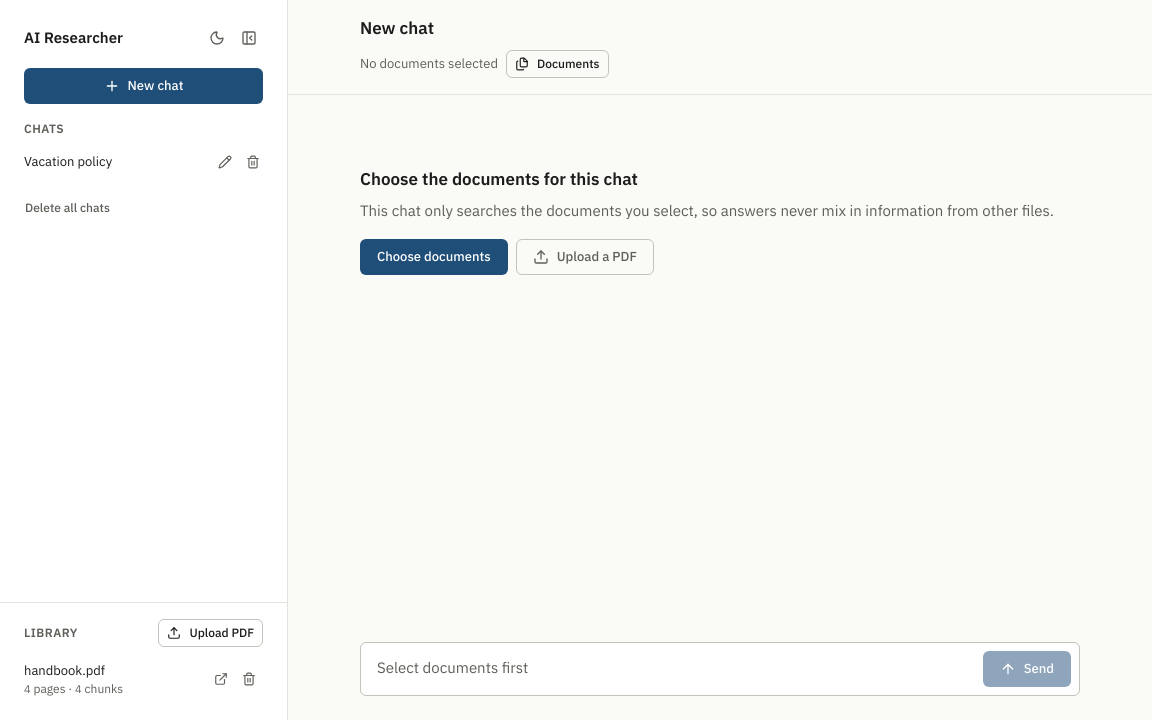
it: Sidebar › starts a new chat when the open chat is deleted
Click the button "Vacation policy" at [112, 162], box x1=16 y1=146 x2=207 y2=178
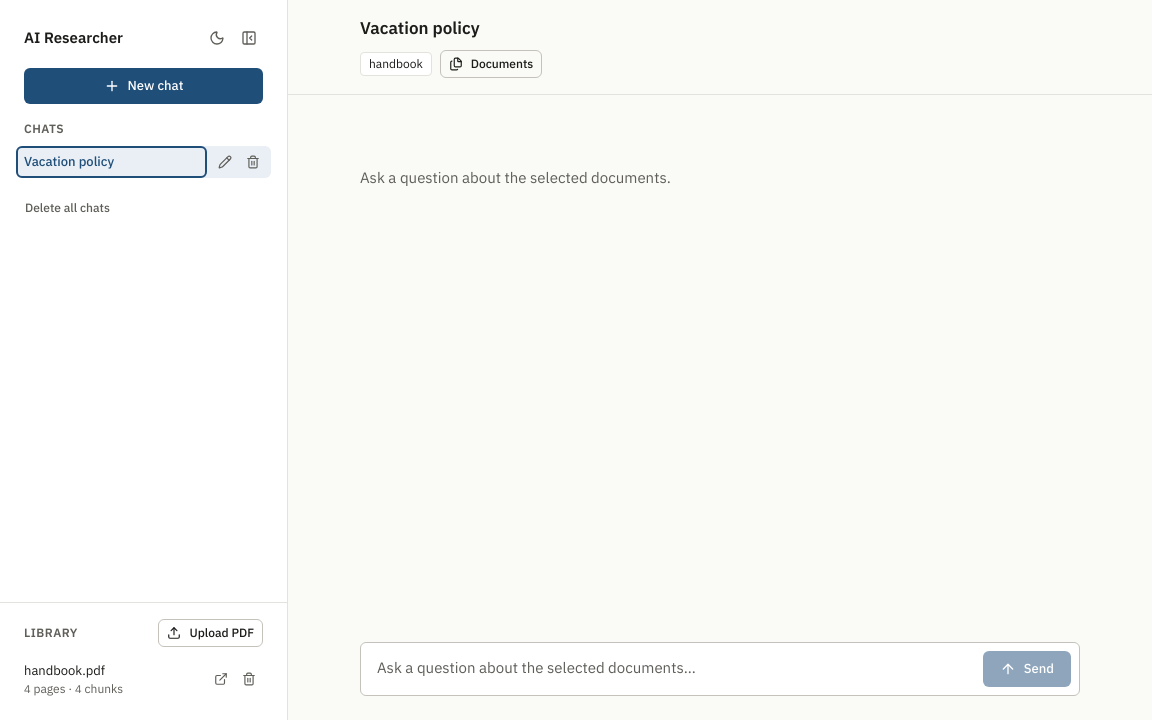
Expected: the heading "Vacation policy" is shown, x1=360 y1=16 x2=480 y2=42
Click the button named "Delete \"Vacation policy\"" at [253, 162], box x1=239 y1=148 x2=267 y2=176
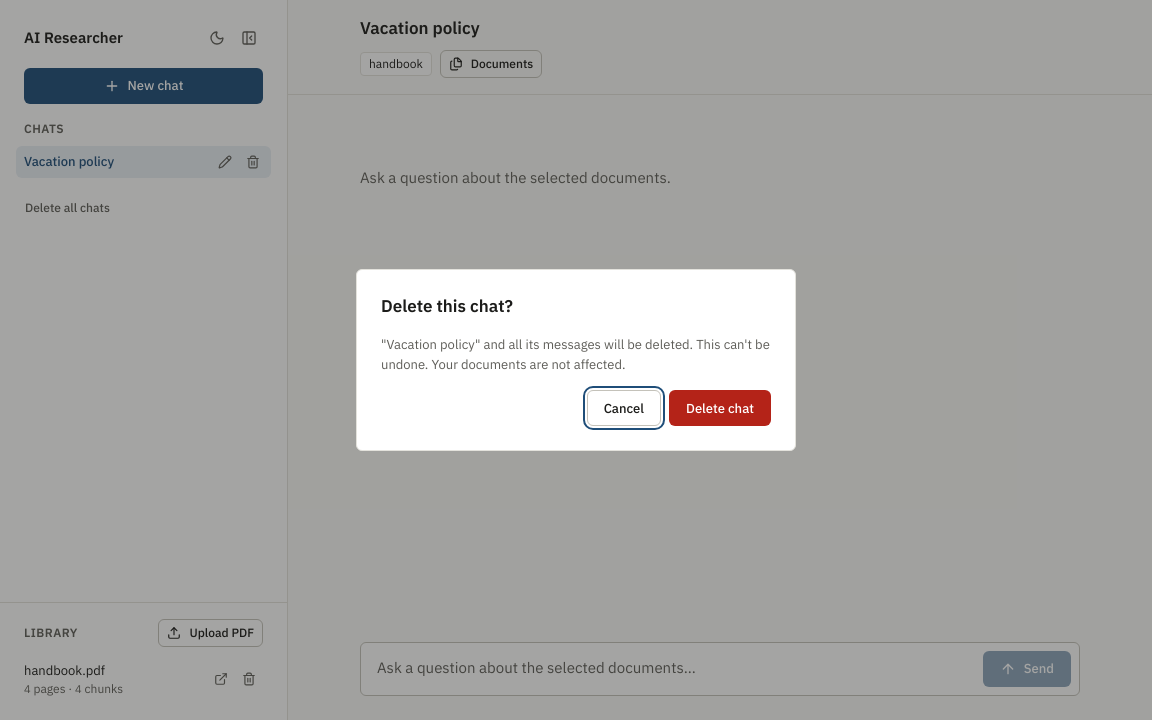
Click the button "Delete chat" at [720, 408], box x1=669 y1=390 x2=771 y2=426
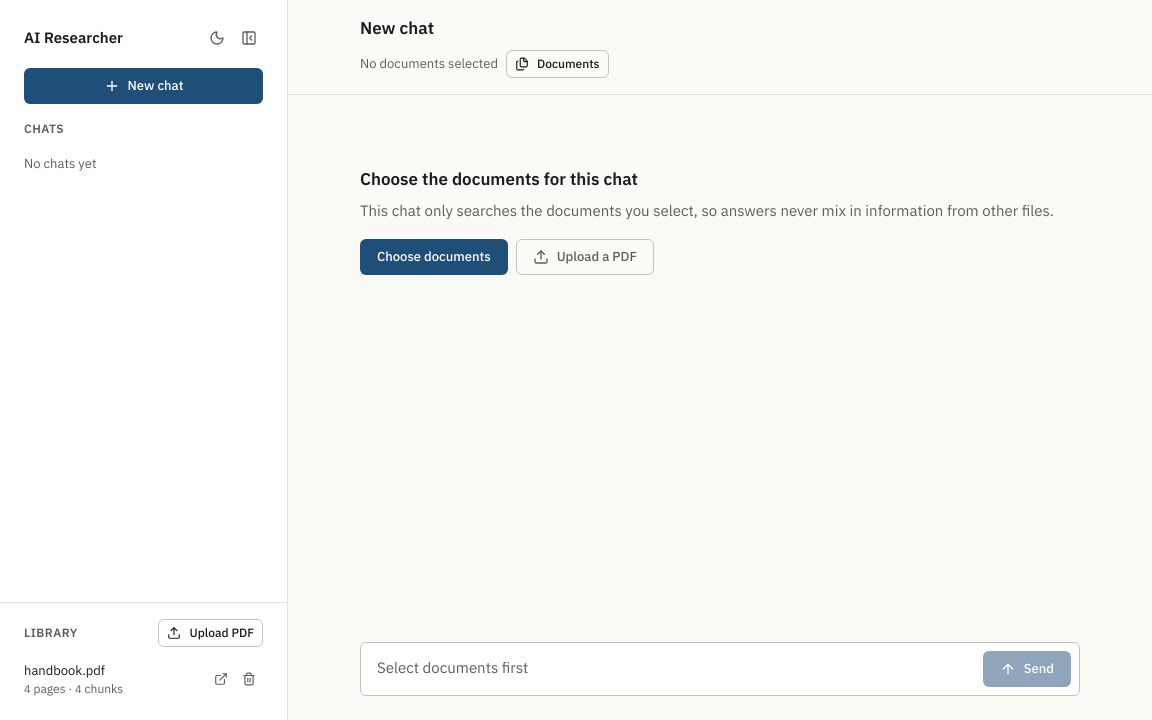
Expected: the heading "New chat" is shown, x1=360 y1=16 x2=434 y2=42
Expected: the text "No chats yet" is shown, x1=24 y1=155 x2=96 y2=172
